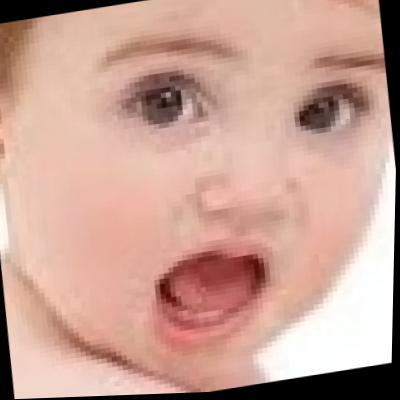surprise: (20, 0, 400, 375)
